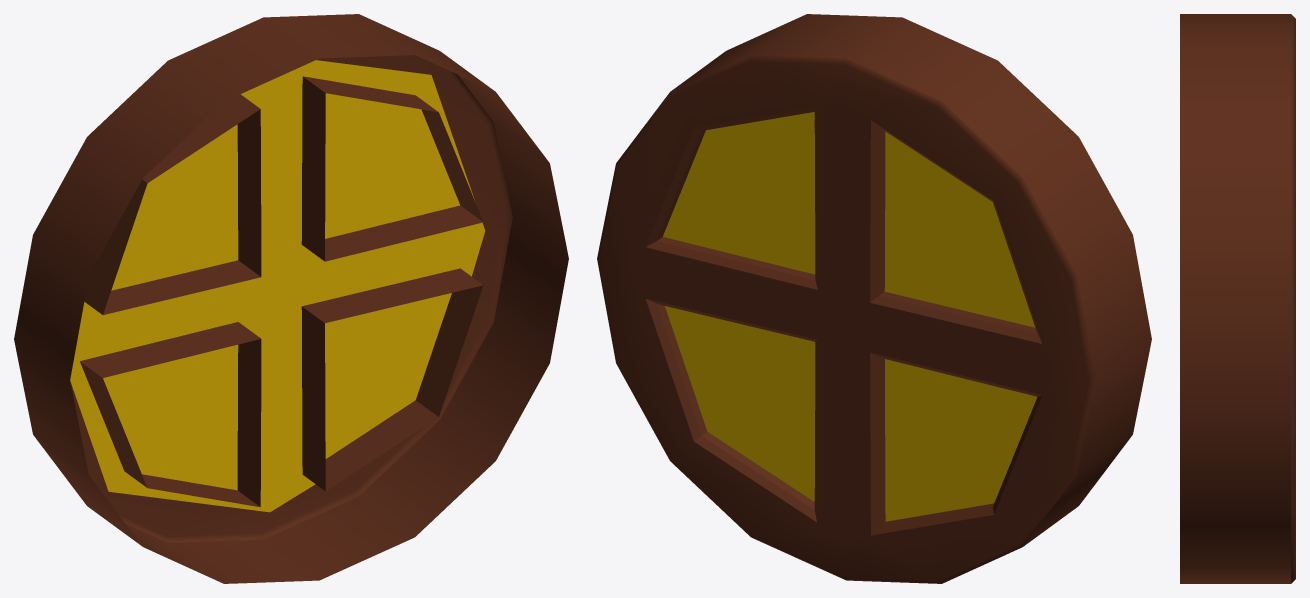
File: Window_Round.fbx
The picture shows the model from 3 angles, left to right: view 1: azimuth 30°, elevation 25°; view 2: azimuth 150°, elevation 25°; view 3: azimuth 270°, elevation 25°; orthographic projection.
Parts seen in each view (by area): view 1: Frame_Round, Glass_Round; view 2: Frame_Round, Glass_Round; view 3: Frame_Round.
Part boxes in pixels (left/top/right/bottom): Frame_Round: left=14, top=14, right=568, bottom=583; Glass_Round: left=70, top=60, right=485, bottom=512; Frame_Round: left=597, top=14, right=1151, bottom=583; Glass_Round: left=663, top=112, right=1037, bottom=521; Frame_Round: left=1180, top=14, right=1295, bottom=583.
Bounding box in the file's own units: 0.00778 × 0.00778 × 0.00158.
